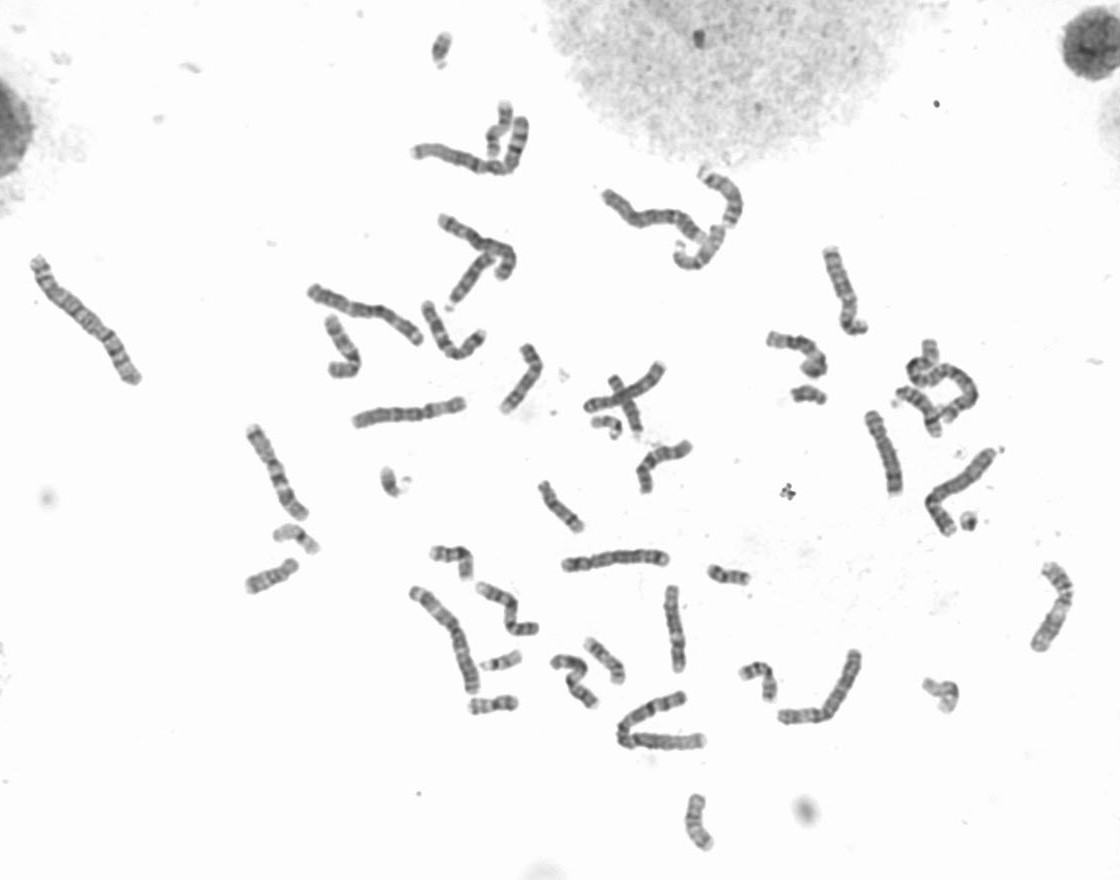chromosomes: (22, 250, 150, 396), (394, 580, 489, 698), (408, 111, 536, 181), (301, 281, 427, 352), (775, 642, 867, 729), (903, 330, 984, 428), (596, 181, 707, 249), (924, 439, 996, 543), (241, 422, 311, 524), (434, 208, 522, 287), (614, 690, 711, 754), (582, 356, 670, 423), (1026, 553, 1077, 665), (818, 240, 871, 339), (413, 298, 488, 363), (344, 395, 470, 433), (863, 406, 909, 499), (479, 579, 544, 643), (635, 435, 700, 497), (693, 158, 746, 234), (442, 247, 499, 317), (498, 337, 546, 418), (889, 385, 945, 451), (764, 331, 830, 385), (656, 584, 695, 674), (535, 473, 588, 537), (315, 313, 364, 382), (557, 550, 680, 577), (581, 630, 630, 692), (267, 520, 333, 566), (550, 653, 601, 712), (670, 224, 728, 274), (239, 552, 304, 595), (607, 373, 651, 435), (734, 655, 780, 710), (687, 789, 722, 856), (917, 672, 962, 719), (472, 648, 532, 682), (428, 541, 475, 584), (485, 97, 518, 155), (428, 29, 462, 74), (786, 380, 830, 410), (377, 464, 412, 501), (704, 564, 753, 590), (589, 416, 628, 444), (956, 504, 983, 534)
